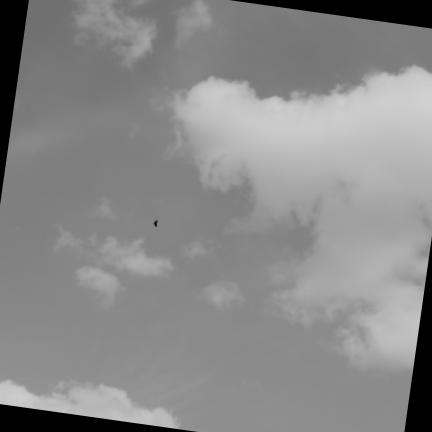Shahed: (153, 219, 158, 226)
